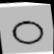no answer: (9, 14, 49, 49)
